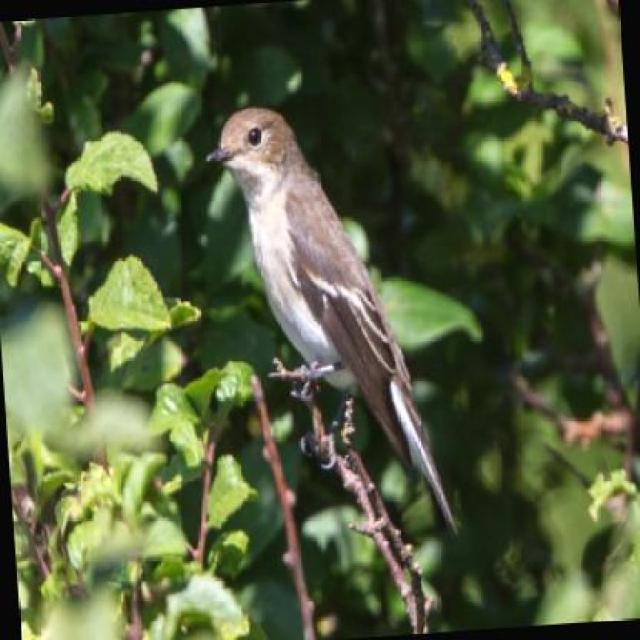Bird: (189, 99, 474, 534)
